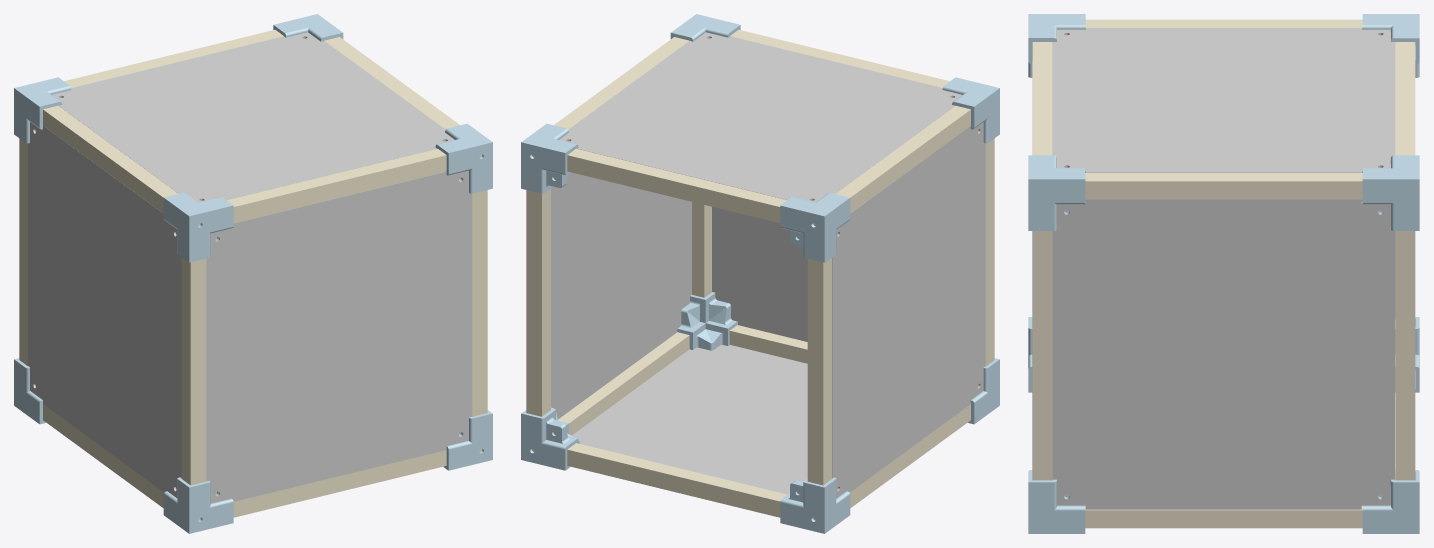
Rendered from Serre_max.gltf.
3 renders of one model, left to right at view 1: azimuth 30°, elevation 25°; view 2: azimuth 150°, elevation 25°; view 3: azimuth 270°, elevation 25°, orthographic. The views are drawn at different scales.
Parts seen in each view (by area): view 1: Plexy (×3), Tasseau 635mm (×6), Support d'angle (×7), tasseau 600mm (×3); view 2: Plexy (×5), Tasseau 635mm (×8), Support d'angle (×8), tasseau 600mm (×4); view 3: Plexy (×2), tasseau 600mm (×3), Tasseau 635mm (×4), Support d'angle (×6).
Boxes of the visible parts, x1=… form: Plexy (×3): x1=28, y1=32, x2=472, y2=503; Tasseau 635mm (×6): x1=19, y1=29, x2=487, y2=520; Support d'angle (×7): x1=14, y1=14, x2=492, y2=533; tasseau 600mm (×3): x1=43, y1=37, x2=459, y2=507; Plexy (×5): x1=551, y1=32, x2=985, y2=498; Tasseau 635mm (×8): x1=526, y1=29, x2=994, y2=520; Support d'angle (×8): x1=521, y1=14, x2=999, y2=533; tasseau 600mm (×4): x1=554, y1=37, x2=970, y2=507; Plexy (×2): x1=1052, y1=28, x2=1395, y2=509; tasseau 600mm (×3): x1=1085, y1=19, x2=1362, y2=528; Tasseau 635mm (×4): x1=1032, y1=42, x2=1415, y2=480; Support d'angle (×6): x1=1028, y1=14, x2=1419, y2=533.
Size of the model in its own units: 0.6848 by 0.6848 by 0.685.
